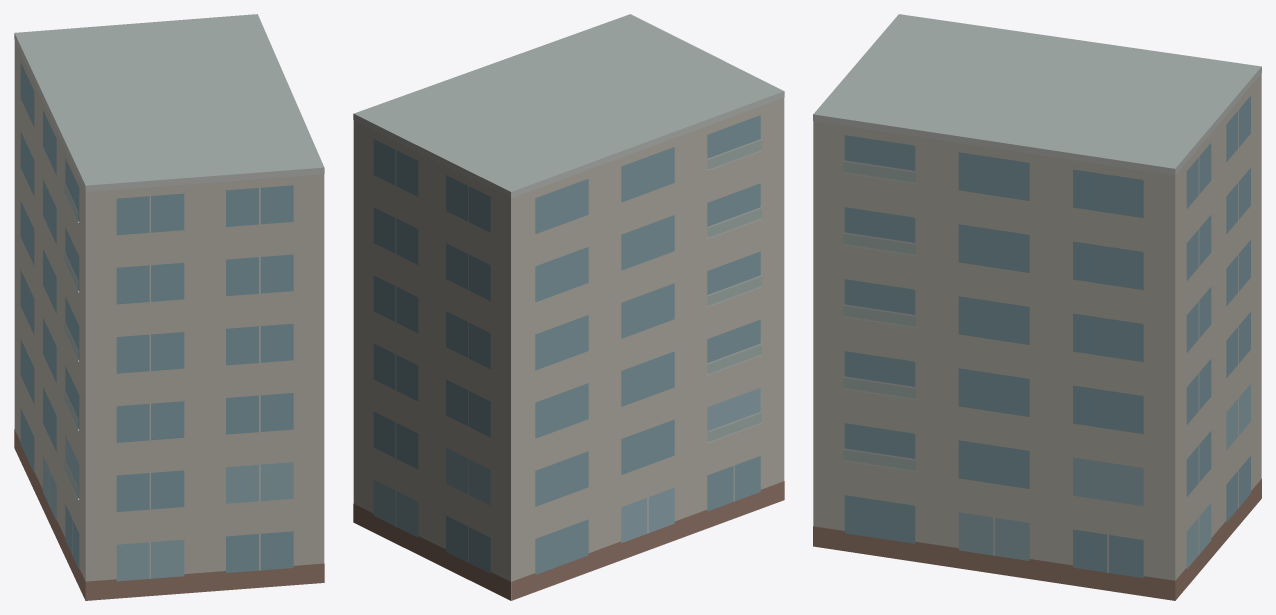
File: survey-upis-33023243.glb
The picture shows the model from 3 angles, left to right: view 1: azimuth 30°, elevation 25°; view 2: azimuth 150°, elevation 25°; view 3: azimuth 270°, elevation 25°; orthographic projection. The views are drawn at different scales.
Visible parts, largest first — view 1: survey-upis-33023243.tmp; view 2: survey-upis-33023243.tmp; view 3: survey-upis-33023243.tmp.
Boxes of the visible parts, <box> form: survey-upis-33023243.tmp: <box>14,14,324,600</box>; survey-upis-33023243.tmp: <box>353,14,784,600</box>; survey-upis-33023243.tmp: <box>813,14,1261,600</box>.
Bounding box in the file's own units: 12.15 × 15.8 × 14.88.
